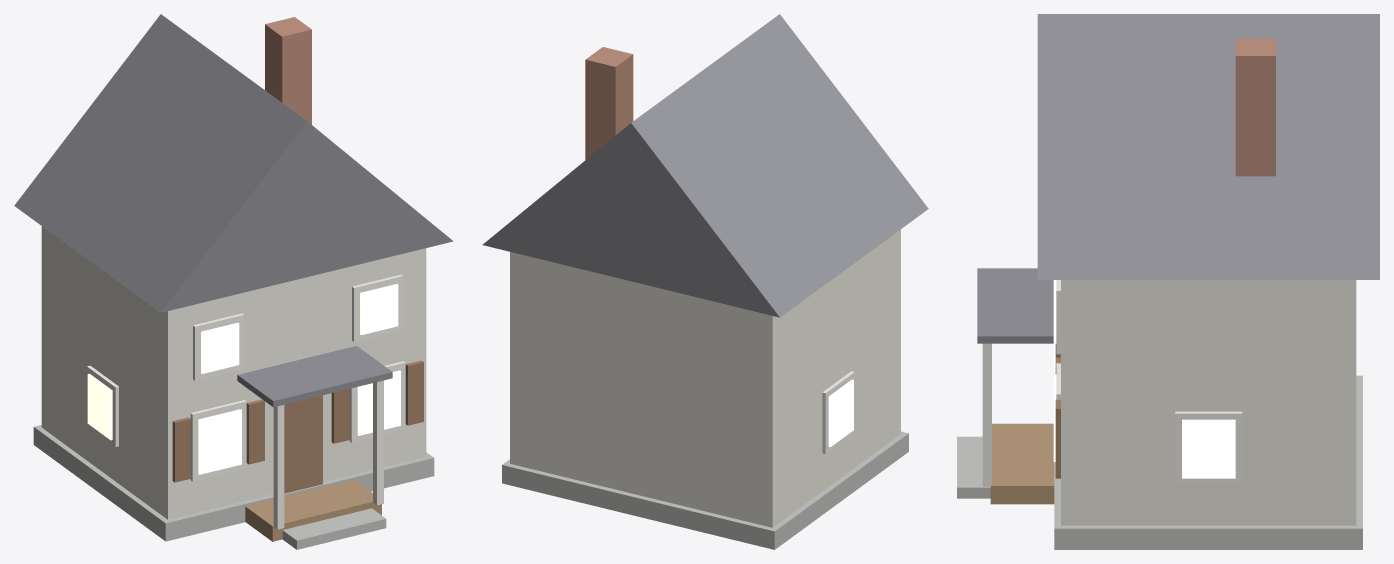
The model's file is house.glb.
3 renders of one model, left to right at view 1: azimuth 30°, elevation 25°; view 2: azimuth 150°, elevation 25°; view 3: azimuth 270°, elevation 25°, orthographic. The views are drawn at different scales.
Visible parts, largest first — view 1: house; view 2: house; view 3: house.
Part boxes in pixels (x1,y1,x2,y2): house: [14, 14, 453, 549]; house: [482, 14, 928, 549]; house: [957, 14, 1379, 549].
Size of the model in its own units: 5.9 by 7.71 by 6.3.
